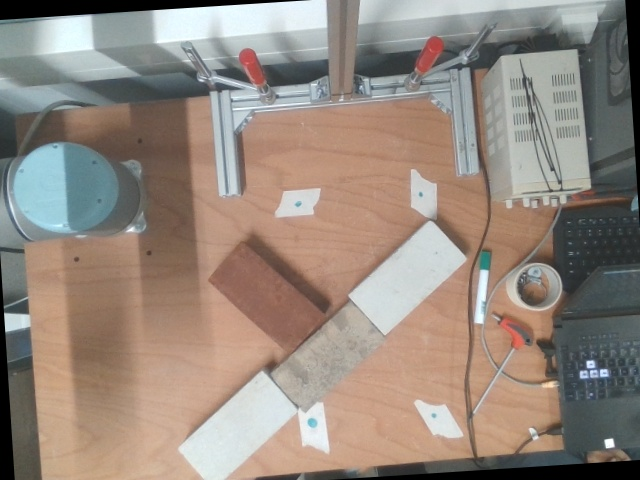brick: (347, 222, 465, 335), (178, 371, 299, 479), (211, 242, 325, 351), (270, 303, 382, 411)
